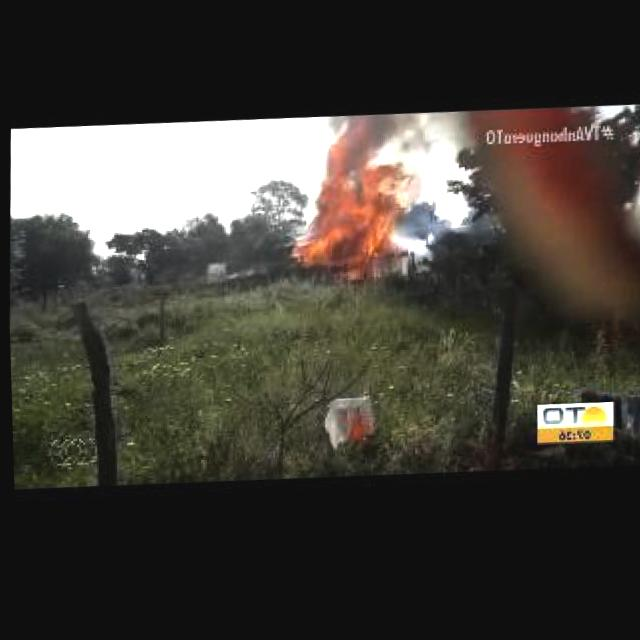Fire: (289, 129, 411, 274), (290, 112, 431, 173)
